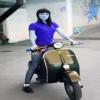motorcycles: (38, 44, 90, 100)
